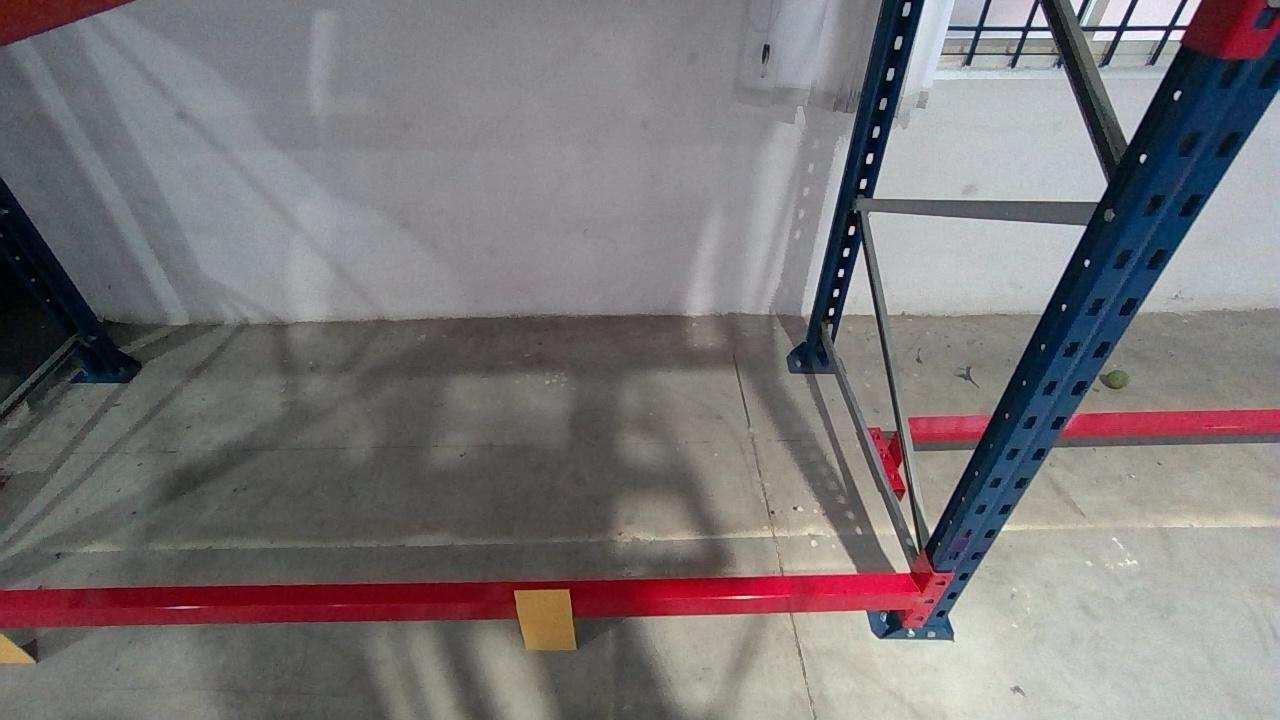h_rack: (4, 591, 920, 626)
orange_strip: (511, 589, 575, 650), (0, 632, 35, 663)
